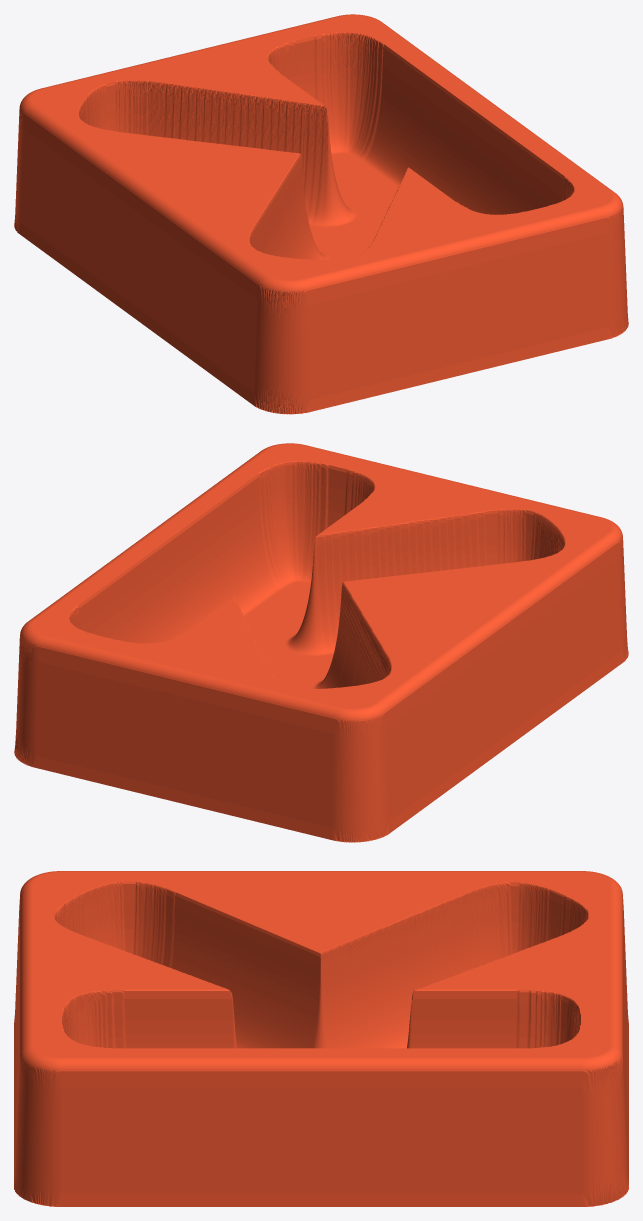
The model's file is mold.glb.
3 renders of one model, top to bottom at view 1: azimuth 30°, elevation 25°; view 2: azimuth 150°, elevation 25°; view 3: azimuth 270°, elevation 25°, orthographic. The views are drawn at different scales.
Visible parts, largest first — view 1: geometry_0; view 2: geometry_0; view 3: geometry_0.
Part boxes in pixels (<box>): geometry_0: <box>14,14,628,414</box>; geometry_0: <box>14,443,628,842</box>; geometry_0: <box>14,871,628,1206</box>.
Size of the model in its own units: 0.0912 by 0.0299 by 0.1178.
